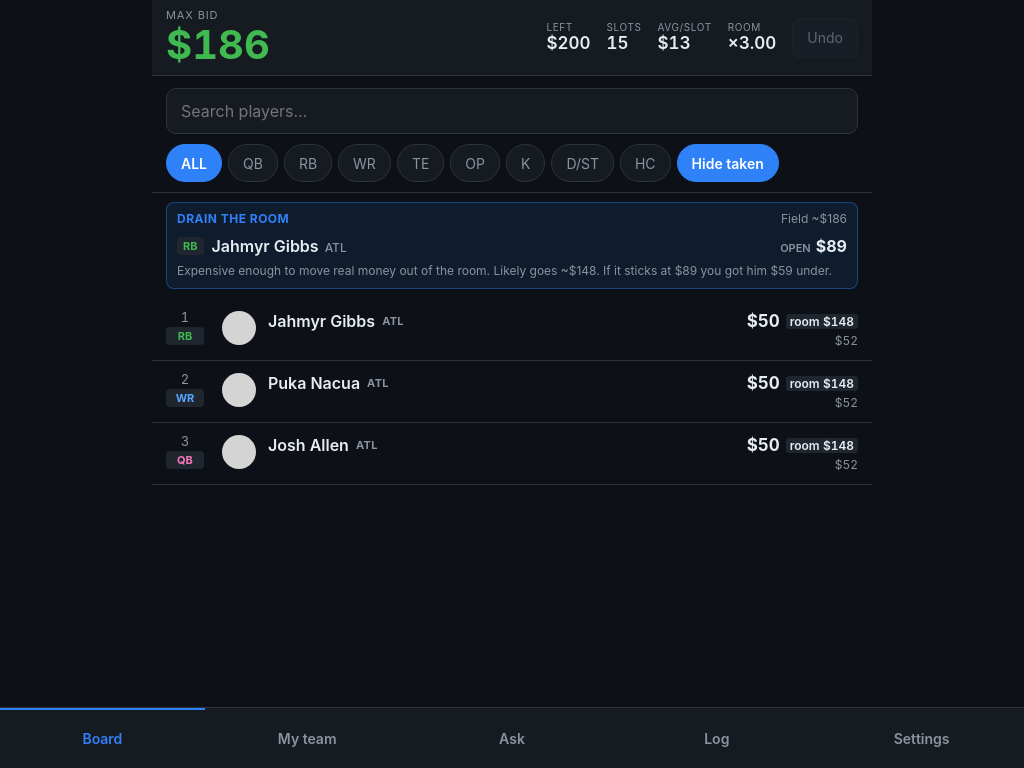
draft board end to end › refuses a bid above the max bid
The image size is (1024, 768).
Click the text "Jahmyr Gibbs" at point(322, 321), box 268,311 -> 375,331
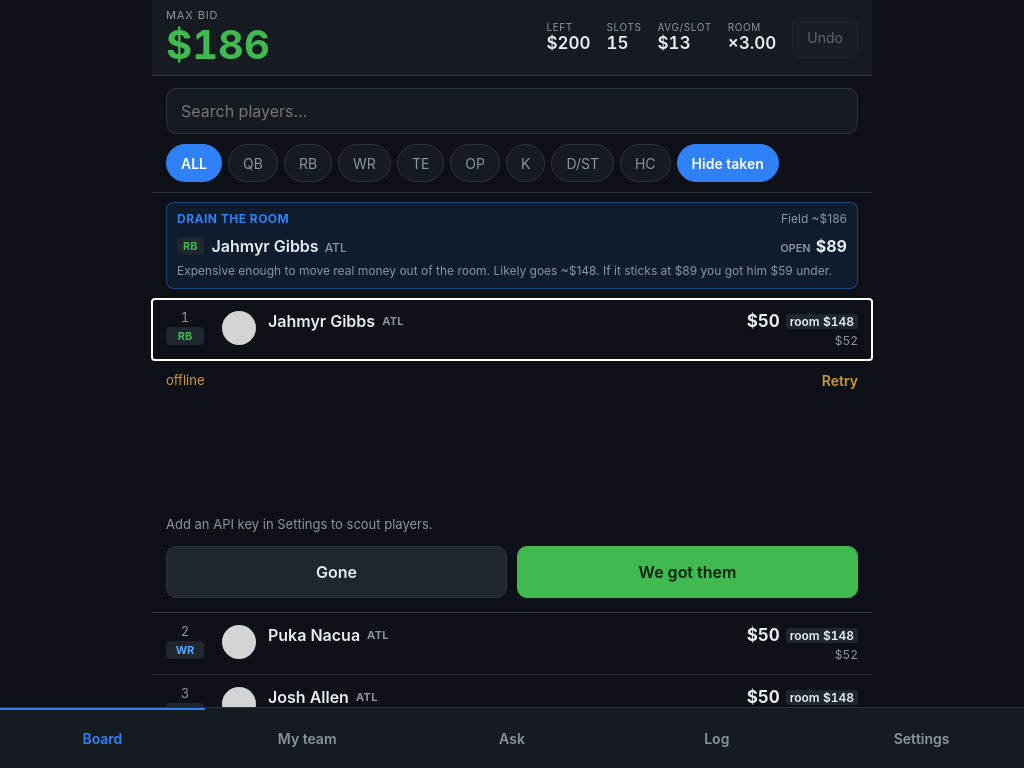
Click the button "We got them" at point(688, 572), box 517,546 -> 858,598
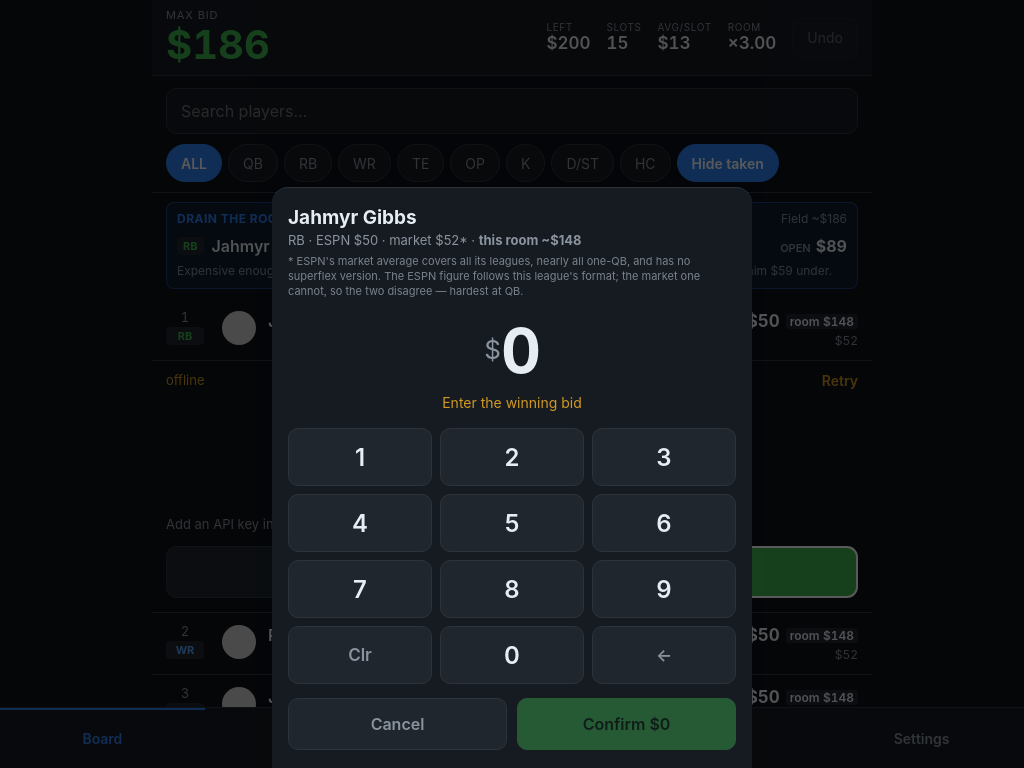
Click the button "1" at point(360, 457), box 288,428 -> 432,486
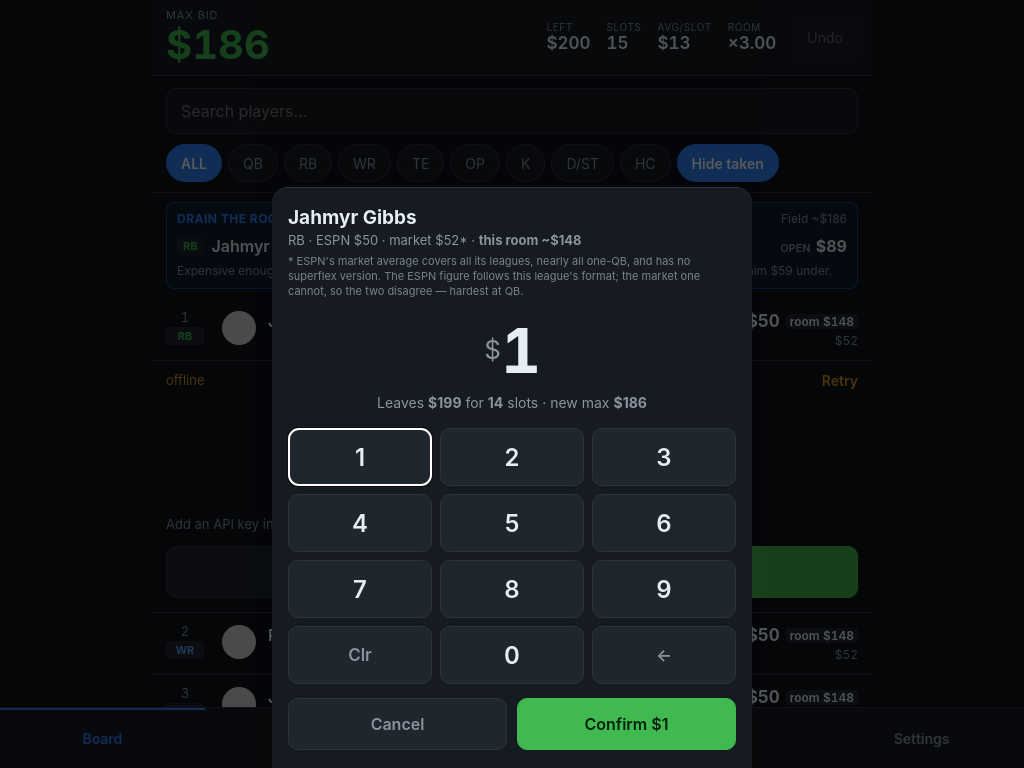
Click the button "8" at point(512, 589), box 440,560 -> 584,618
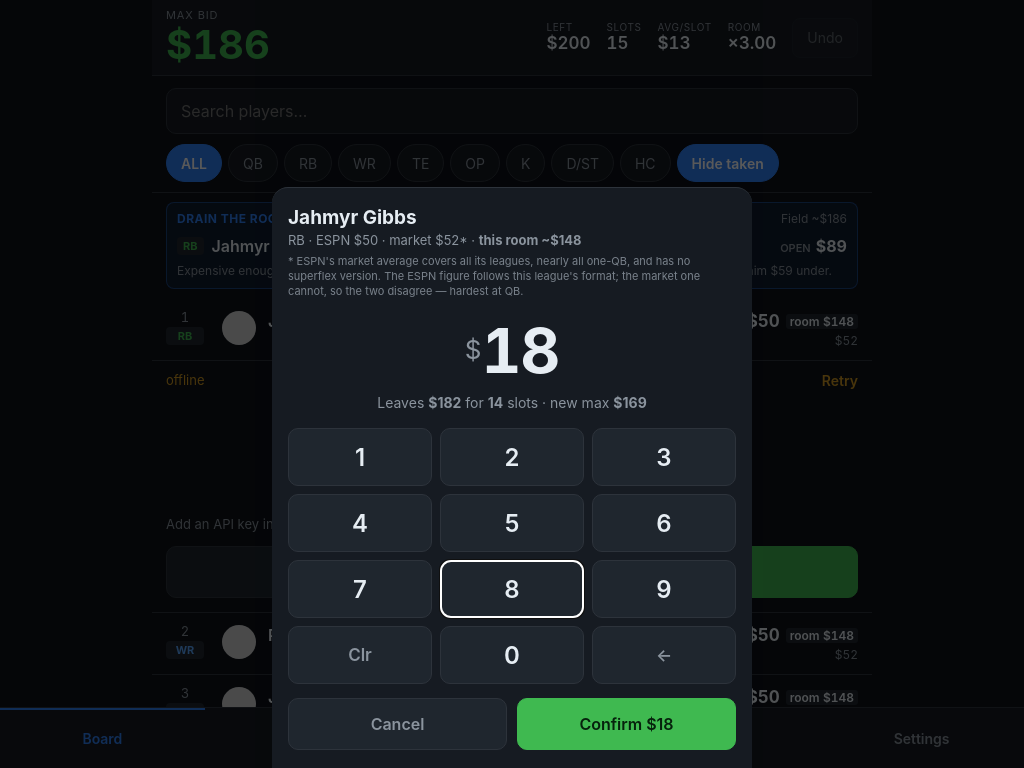
Click the button "7" at point(360, 589), box 288,560 -> 432,618
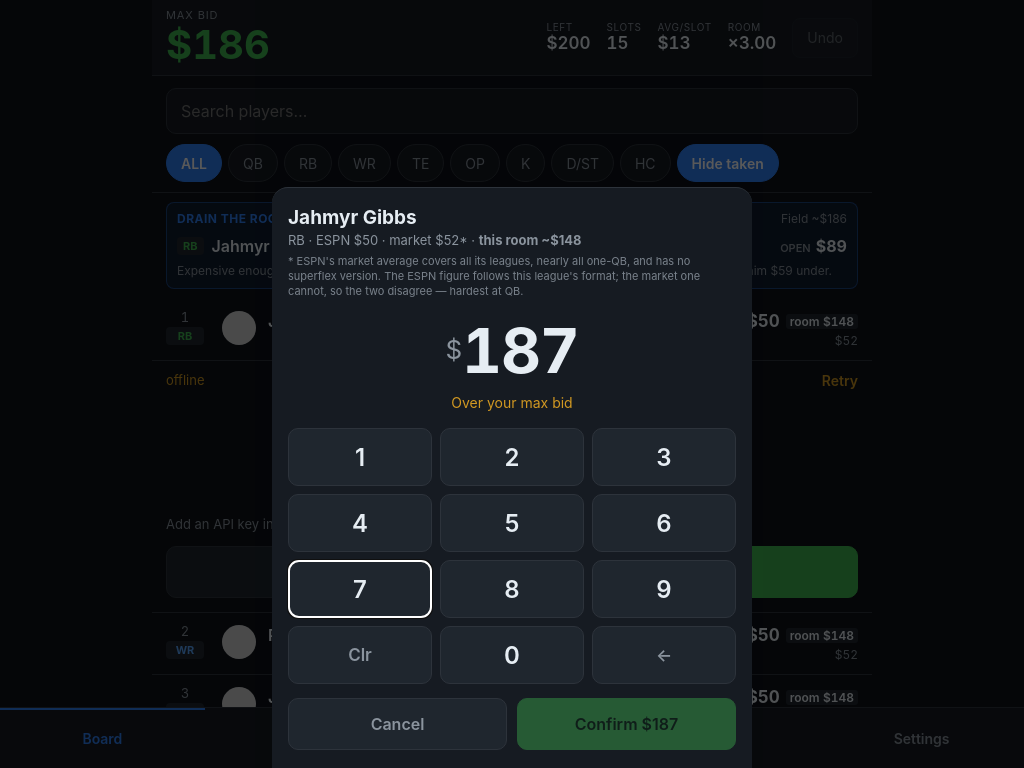
expect the text "Over your max bid" is shown: met, box 451,394 -> 573,411
expect the button "Confirm $187" is disabled: met, box 517,698 -> 736,750
